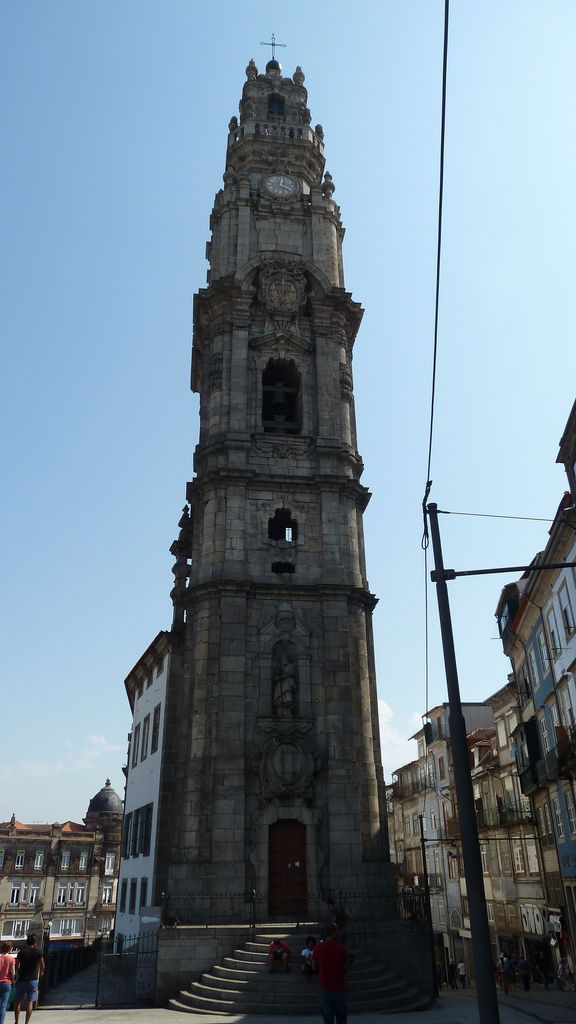clerigos: (169, 33, 401, 924)
